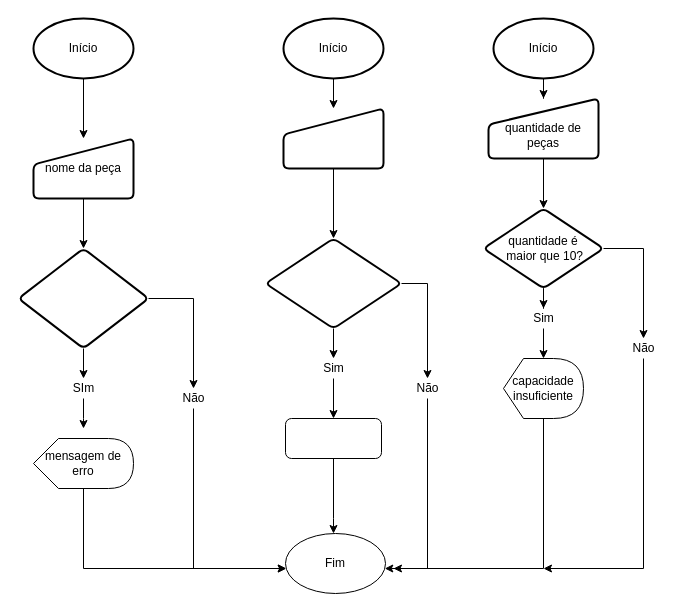
This 680x611 diagram has some shape labels left out. The centre of each missing label's shape, as x and y in pixels:
"cadastrar" goes at (x=333, y=438).
"peso da peça" goes at (x=333, y=138).
"peso é superior a 100grs?" goes at (x=333, y=283).
"quantidade de caracteres é inferior a 3?" goes at (x=83, y=298).
